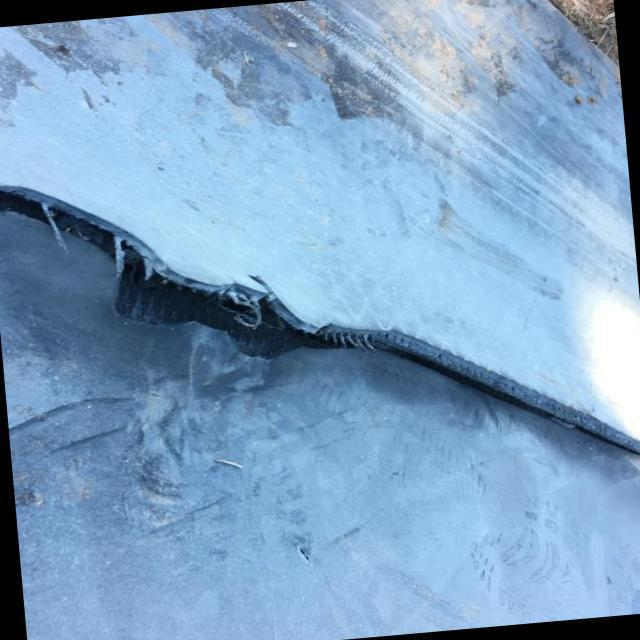Tear: (0, 179, 640, 458)
